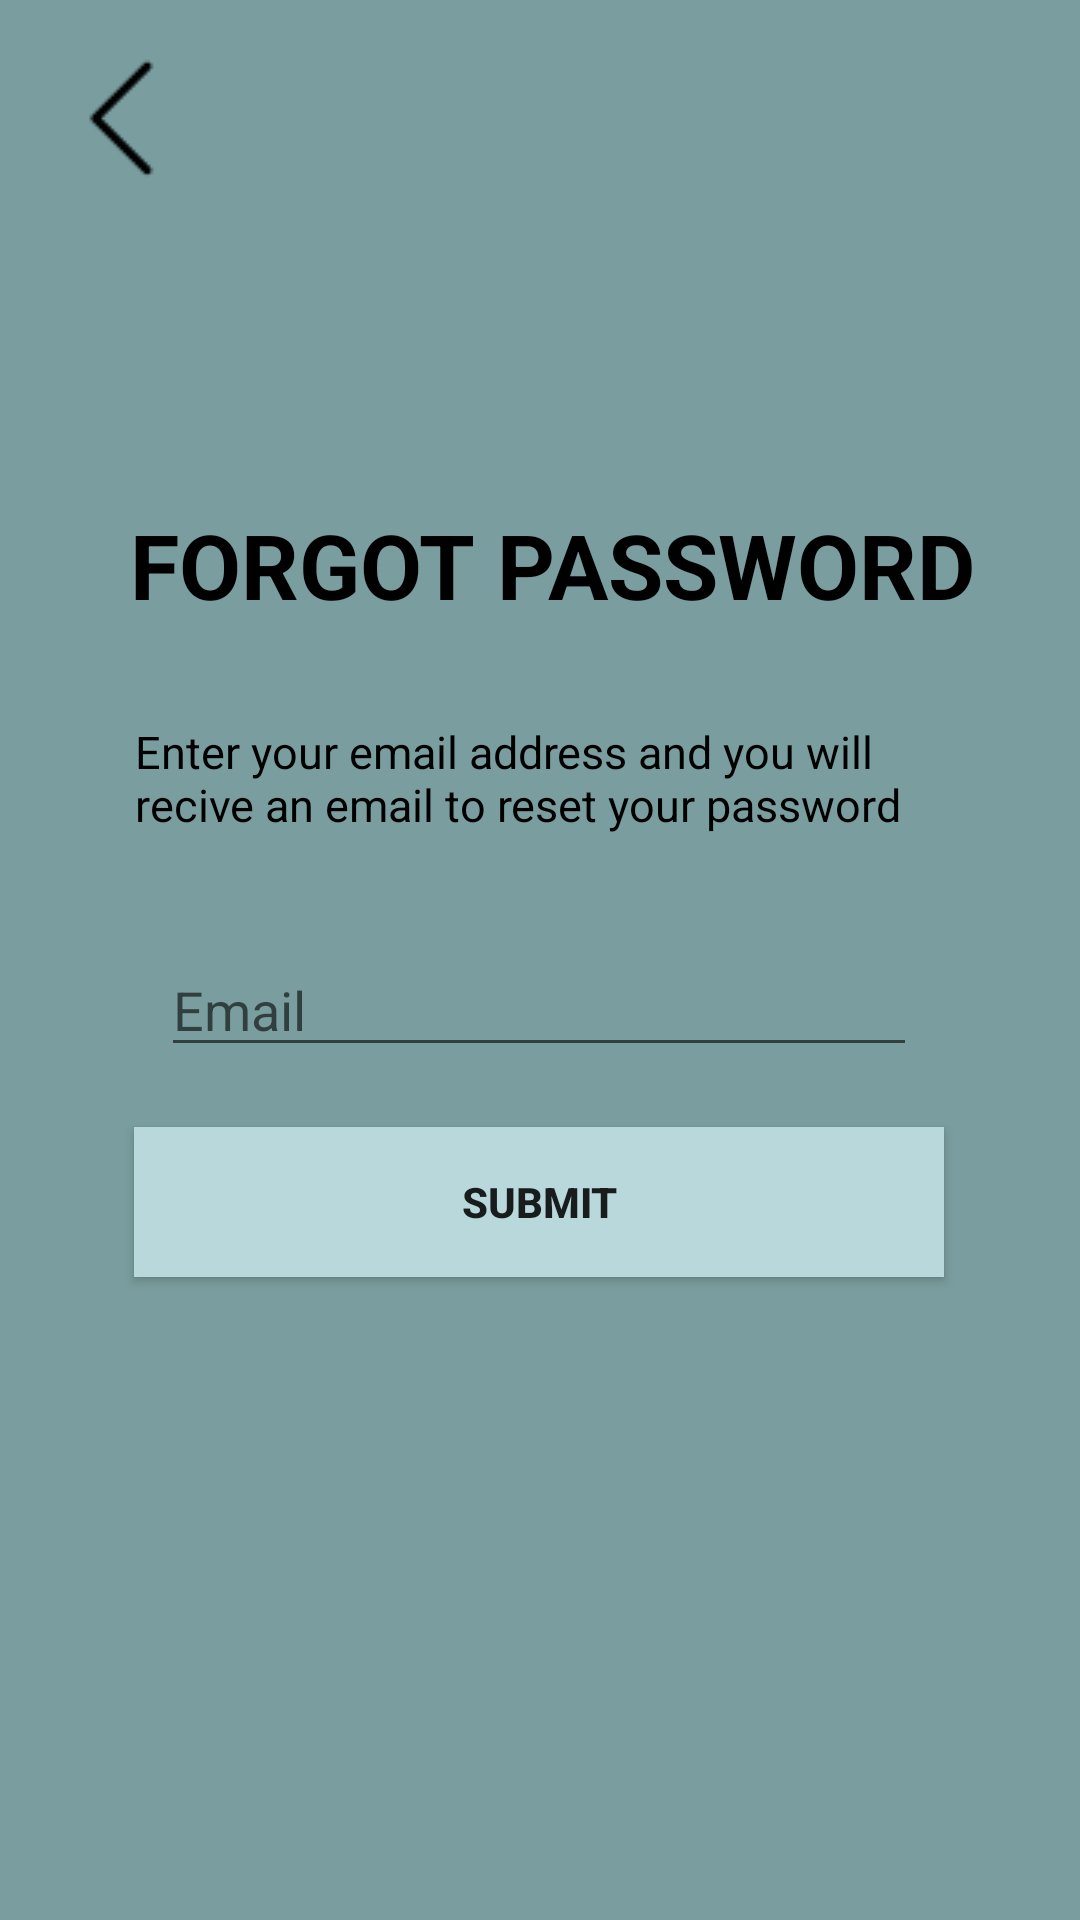

Where to tap for icons on this 1080 × 1920 app screen, as point (x, y):
backarrow: point (121, 118)
